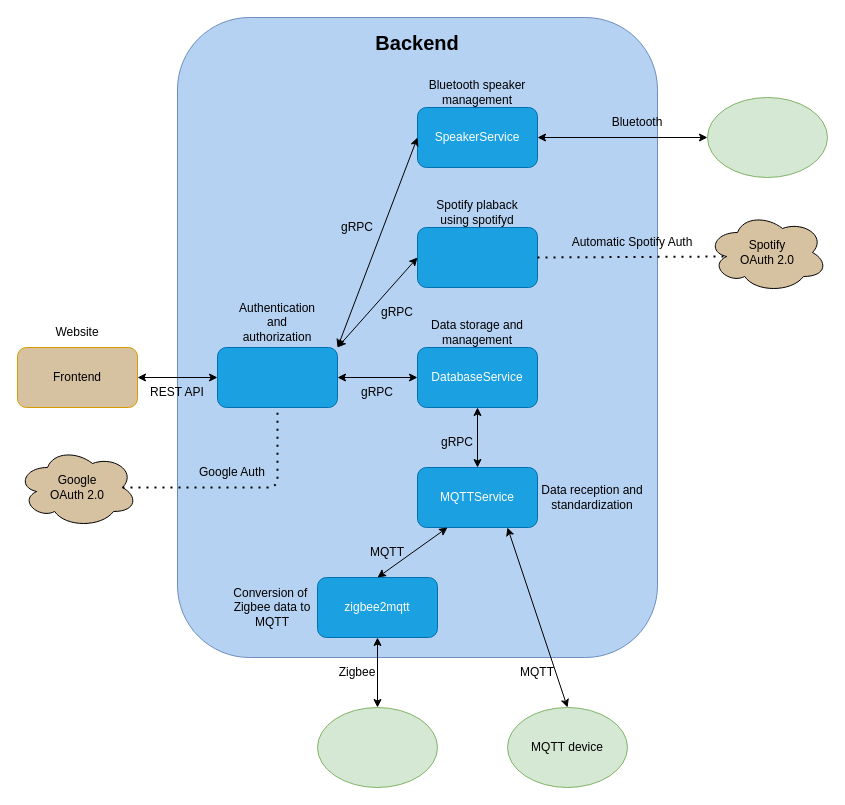
Some shapes in this 845 by 805 pixel diagram are drawn without their labels. Here are the shapes that lost their labels. From the top down, the centre of each, then its label:
At pixel 767 137: "Bluetooth speaker".
At pixel 477 257: "SpotifyService".
At pixel 277 377: "ApiGateway".
At pixel 377 747: "Zigbee device".
